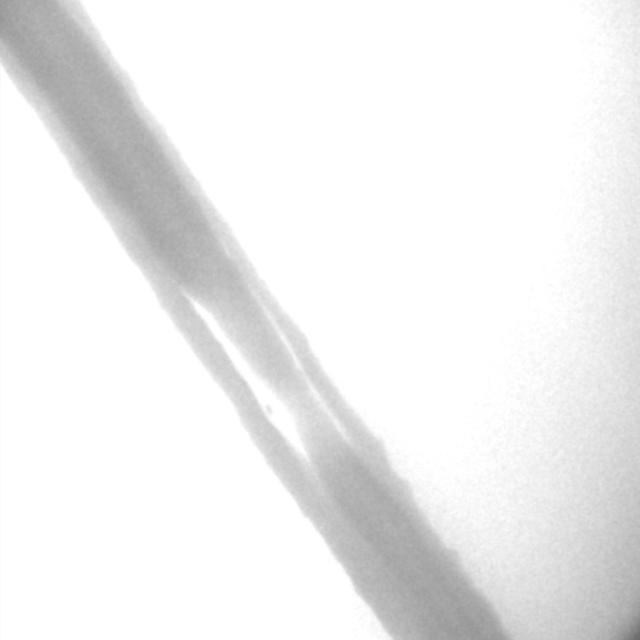unfused: (180, 284, 354, 486)
